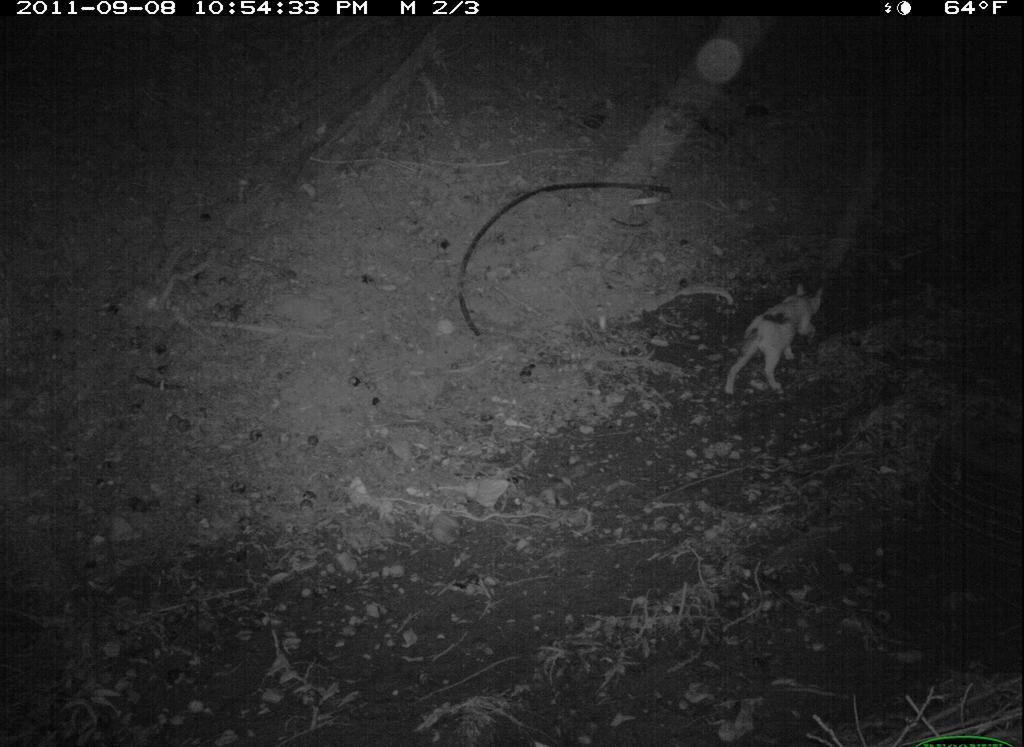cat: (717, 271, 835, 408)
